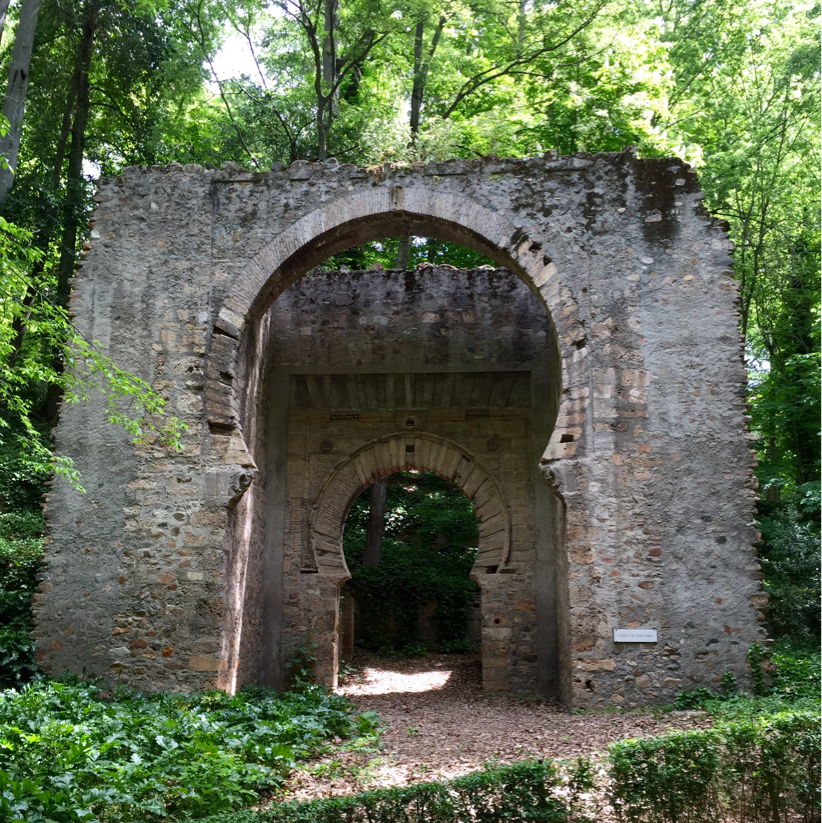arco-herradura: (224, 197, 587, 506), (325, 453, 498, 601)
dintel-adovelado: (293, 371, 530, 411)
